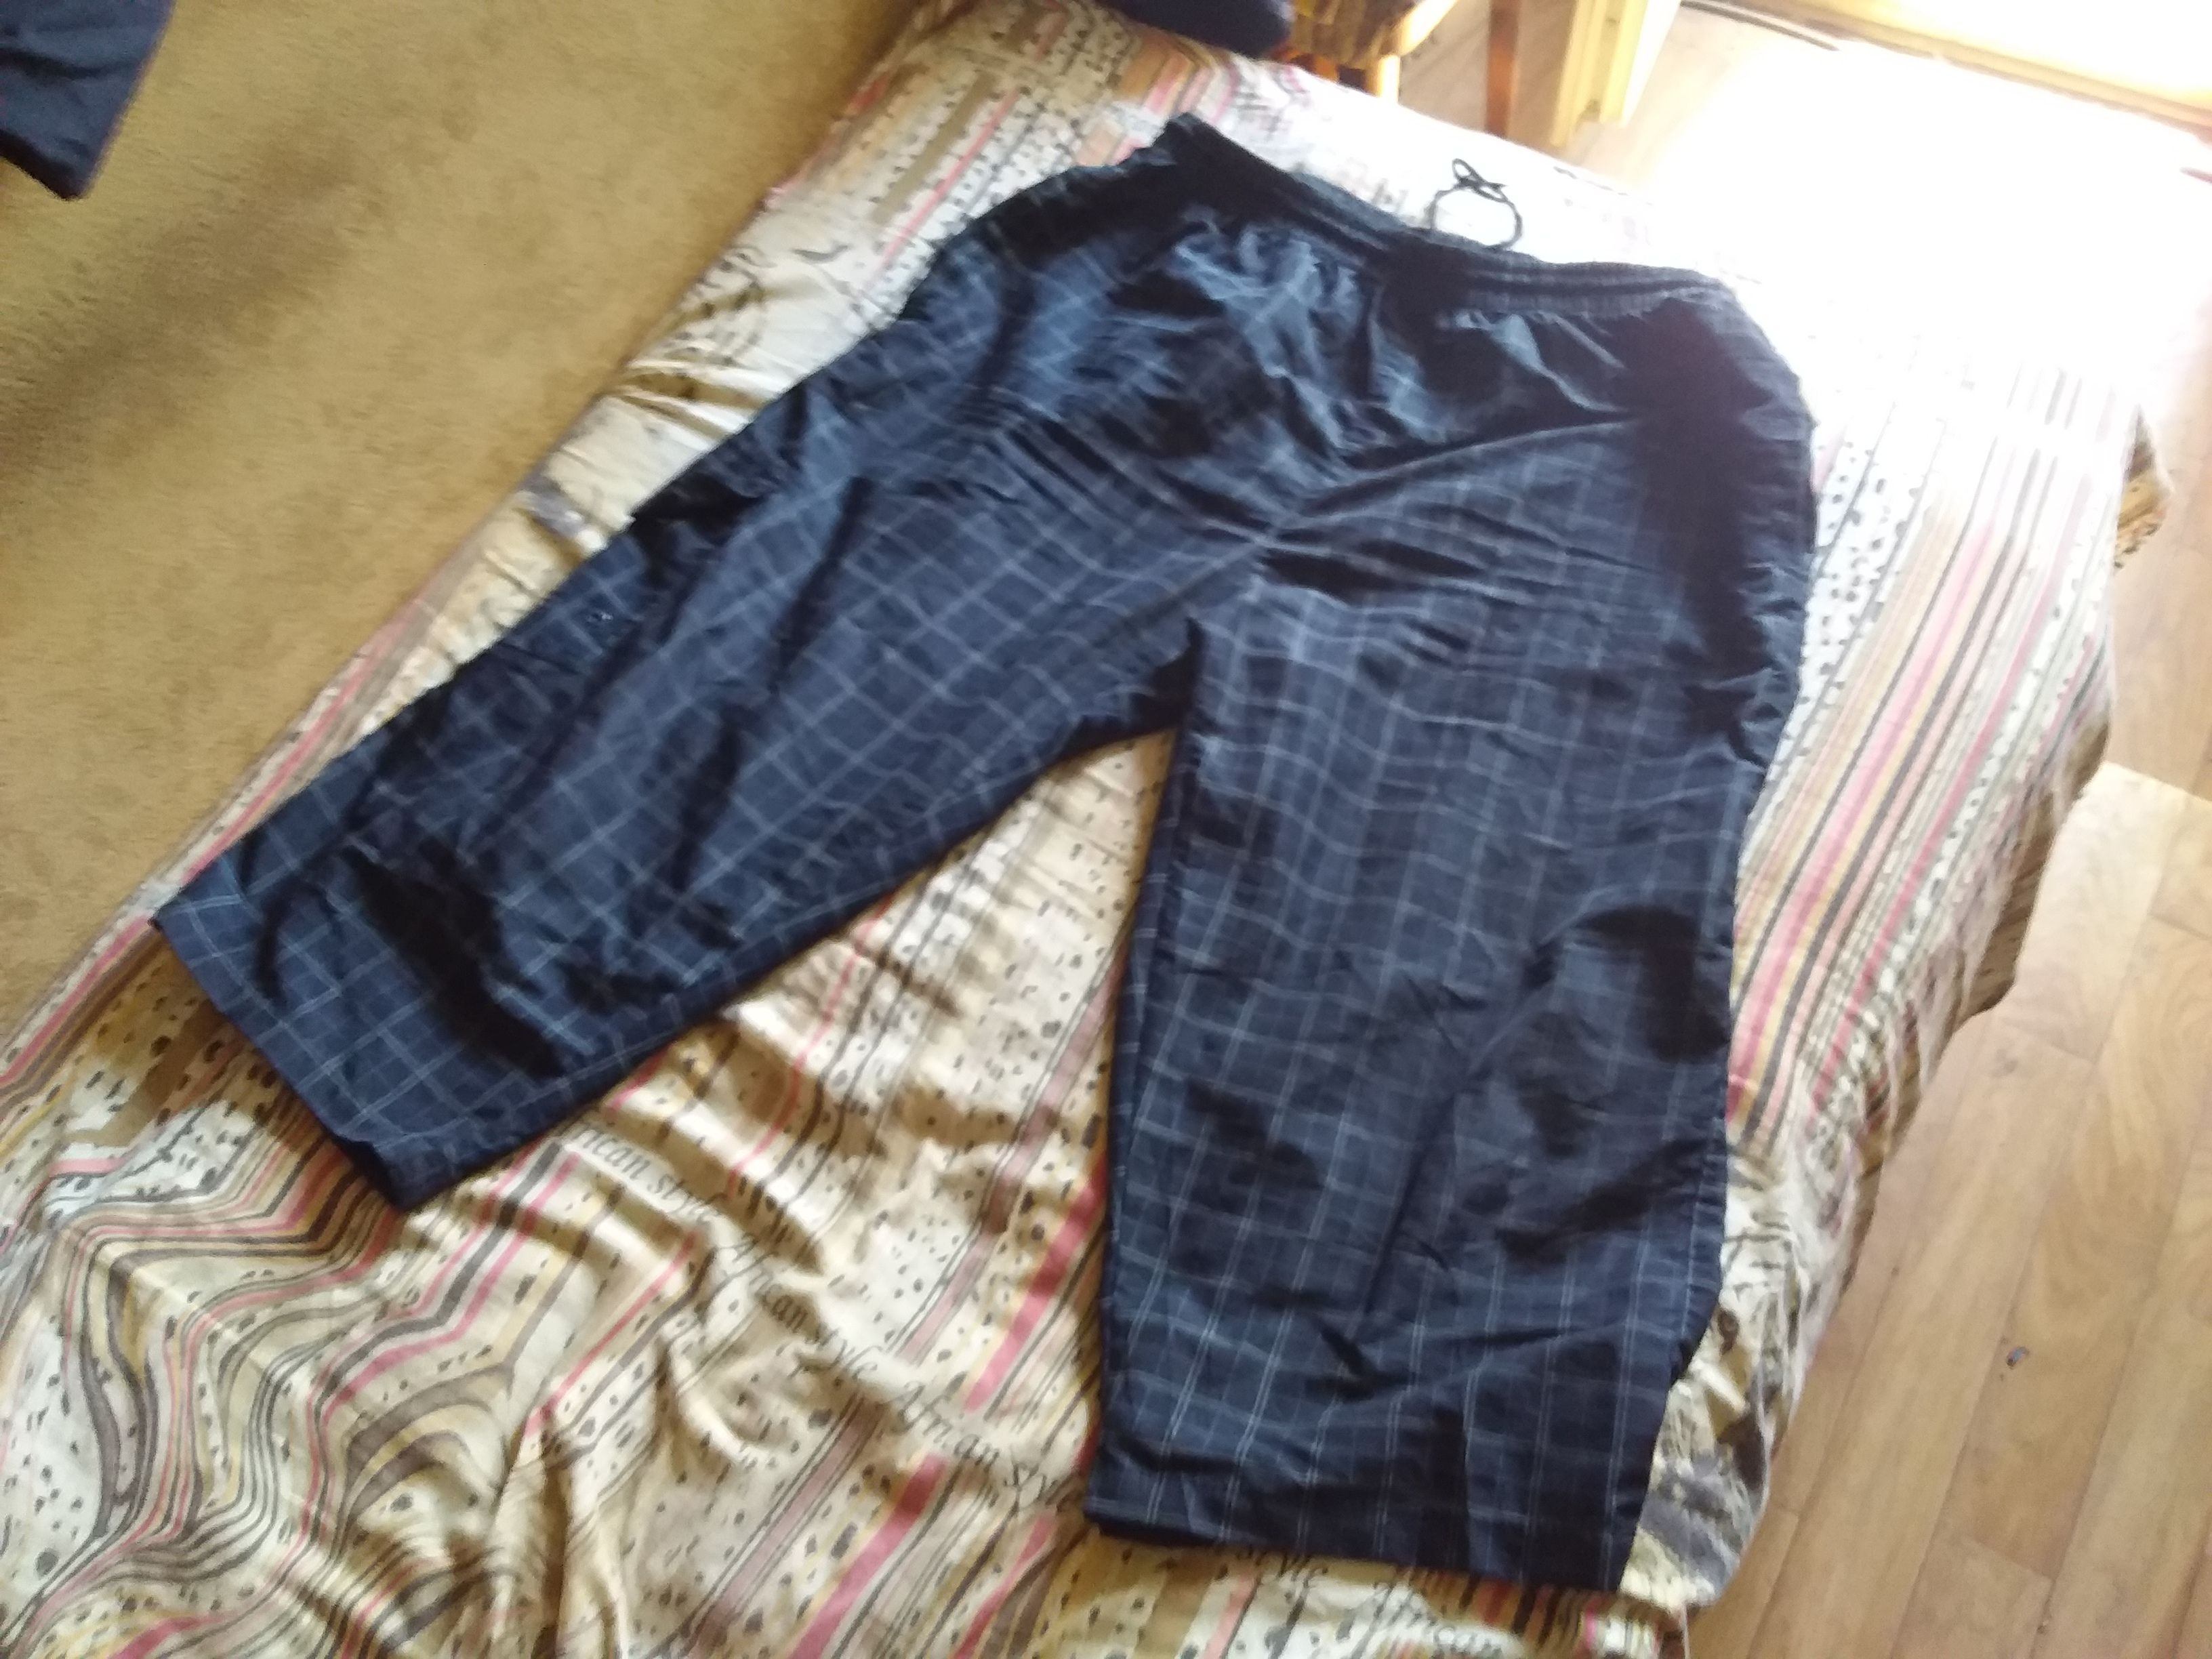clothes: (94, 101, 1822, 1615)
